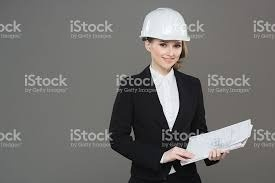helmet: (137, 5, 192, 43)
person with partial safety: (107, 6, 227, 181)
